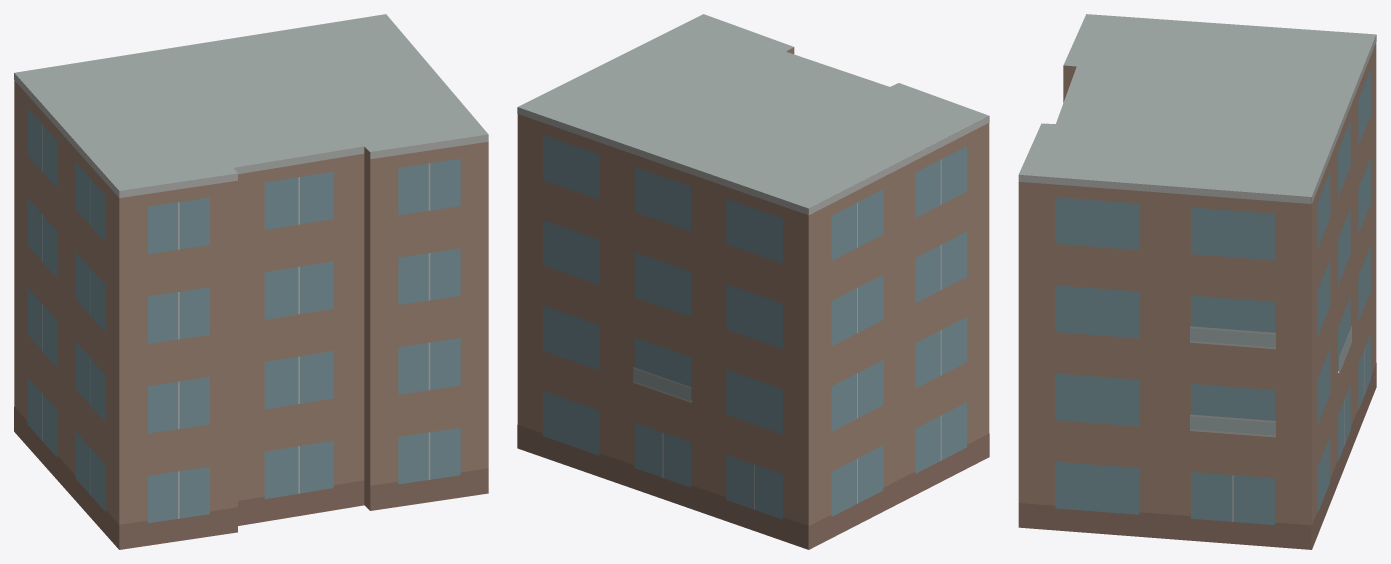
Rendered from survey-upis-32509066.glb.
3 renders of one model, left to right at view 1: azimuth 30°, elevation 25°; view 2: azimuth 150°, elevation 25°; view 3: azimuth 270°, elevation 25°, orthographic. The views are drawn at different scales.
Parts seen in each view (by area): view 1: survey-upis-32509066.tmp; view 2: survey-upis-32509066.tmp; view 3: survey-upis-32509066.tmp.
Boxes of the visible parts, bbox=[...] form: survey-upis-32509066.tmp: bbox=[14, 14, 488, 549]; survey-upis-32509066.tmp: bbox=[517, 14, 989, 549]; survey-upis-32509066.tmp: bbox=[1018, 14, 1376, 549].
Bounding box in the file's own units: 13.7 × 12.3 × 11.32.
